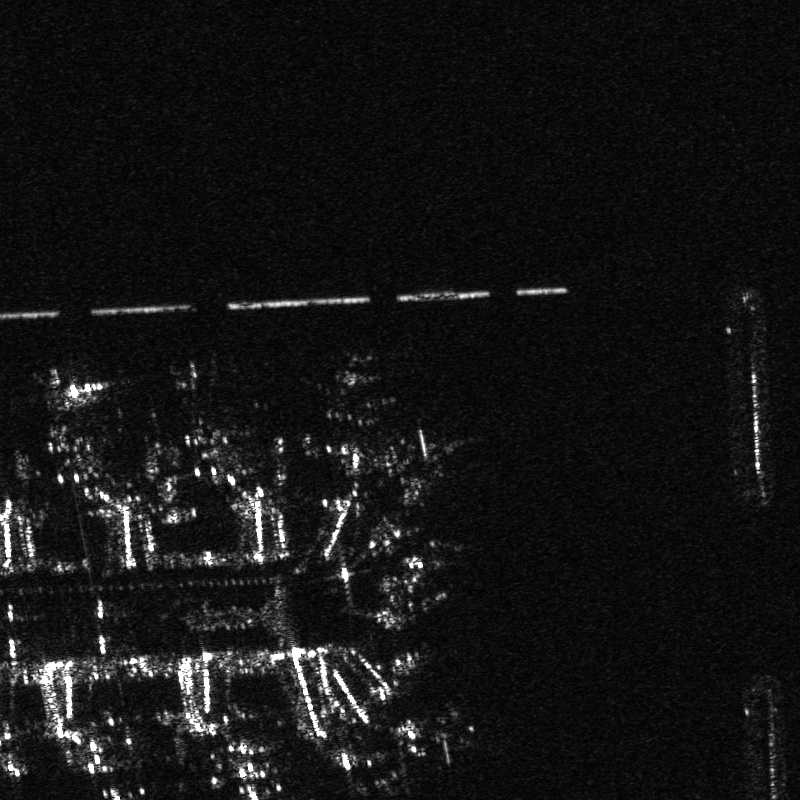A320/321: (317, 364, 395, 432), (38, 364, 115, 423)
